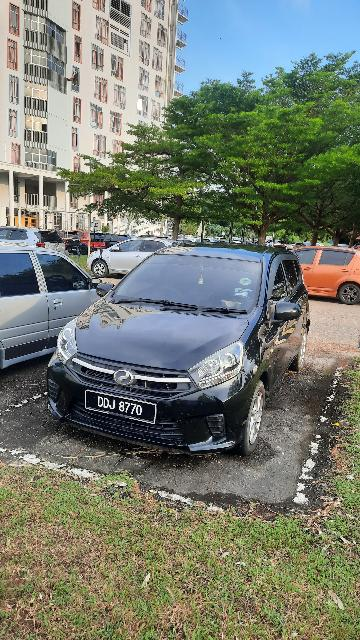License_Plate: (75, 388, 164, 429)
car: (51, 228, 313, 459), (2, 246, 117, 381), (277, 239, 360, 304)
